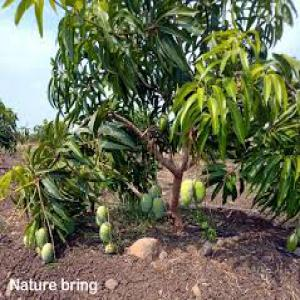Tree: (16, 3, 299, 264)
